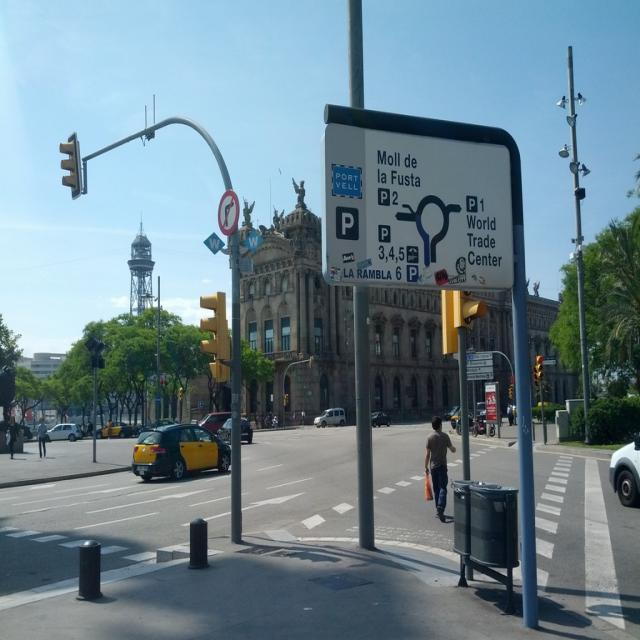off traffic light: (199, 291, 230, 360), (59, 133, 82, 199)
road_sign: (216, 191, 240, 235)
